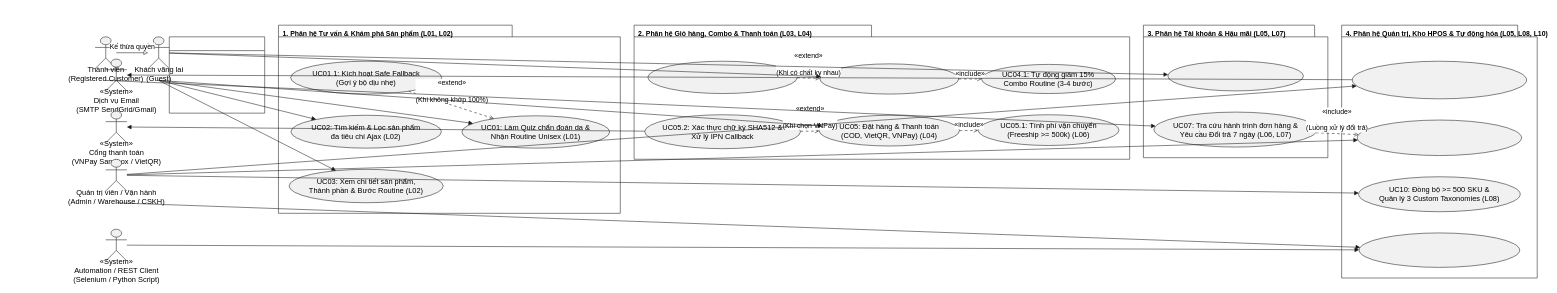
Some shapes in this 1557 by 293 pixel diagram are drawn without their labels. The centre of each missing label's shape, as x and y in pixels:
"Hệ thống TMĐT Mỹ phẩm Unisex KLEER (Tham chiếu nghiệp vụ Hasaki.vn)" goes at pixel 217 74.
"UC04.2: Cảnh báo xung đột hoạt chất (AHA/BHA vs Retinol)" goes at pixel 722 77.
"UC04: Quản lý giỏ hàng & Thêm 1-Click Routine (L03)" goes at pixel 889 78.
"UC06: Đăng ký, Đăng nhập & Lưu hồ sơ da cá nhân" goes at pixel 1235 76.
"UC08: Quản trị vòng đời đơn hàng HPOS, Xuất kho & Gửi hóa đơn QR (L05, L06)" goes at pixel 1439 80.
"UC09: Thẩm định Đổi trả, Hoàn tiền & Nhập lại kho (Restock) (L07)" goes at pixel 1439 138.
"UC11: Thực thi 3 tác vụ tự động qua REST API v3 & Selenium (L10)" goes at pixel 1439 249.
